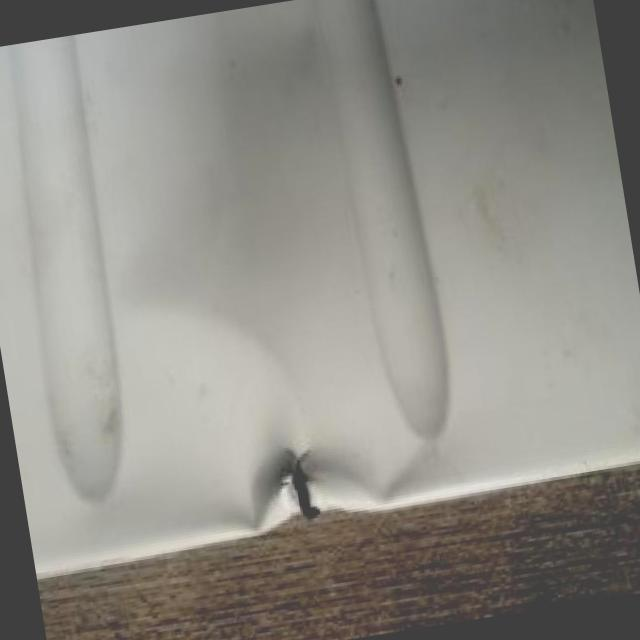crack: (276, 442, 330, 526)
